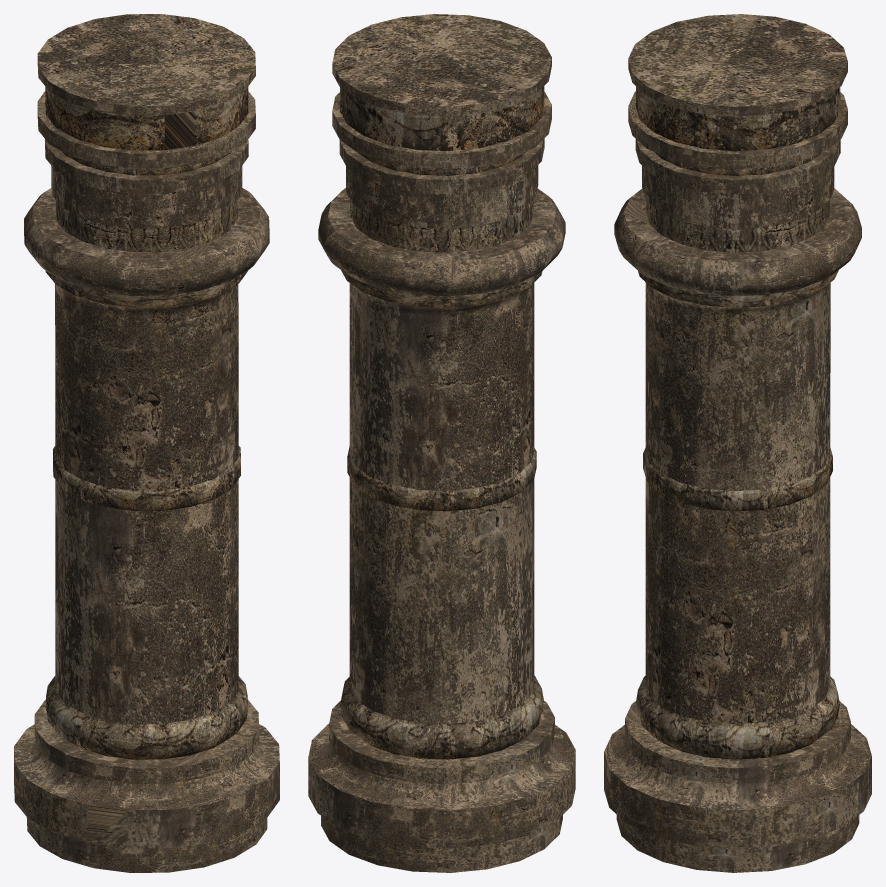
File: materials_5_pillar_short_13.fbx
3 views of the same model, side by side, from view 1: azimuth 30°, elevation 25°; view 2: azimuth 150°, elevation 25°; view 3: azimuth 270°, elevation 25° (orthographic).
Parts seen in each view (by area): view 1: materials_5_pillar_short_13; view 2: materials_5_pillar_short_13; view 3: materials_5_pillar_short_13.
Boxes of the visible parts, box(x1,y1,x2,y2) form: materials_5_pillar_short_13: box(14, 14, 279, 872); materials_5_pillar_short_13: box(308, 14, 575, 872); materials_5_pillar_short_13: box(604, 14, 871, 872).
Size of the model in its own units: 50.79 by 159 by 50.79.
